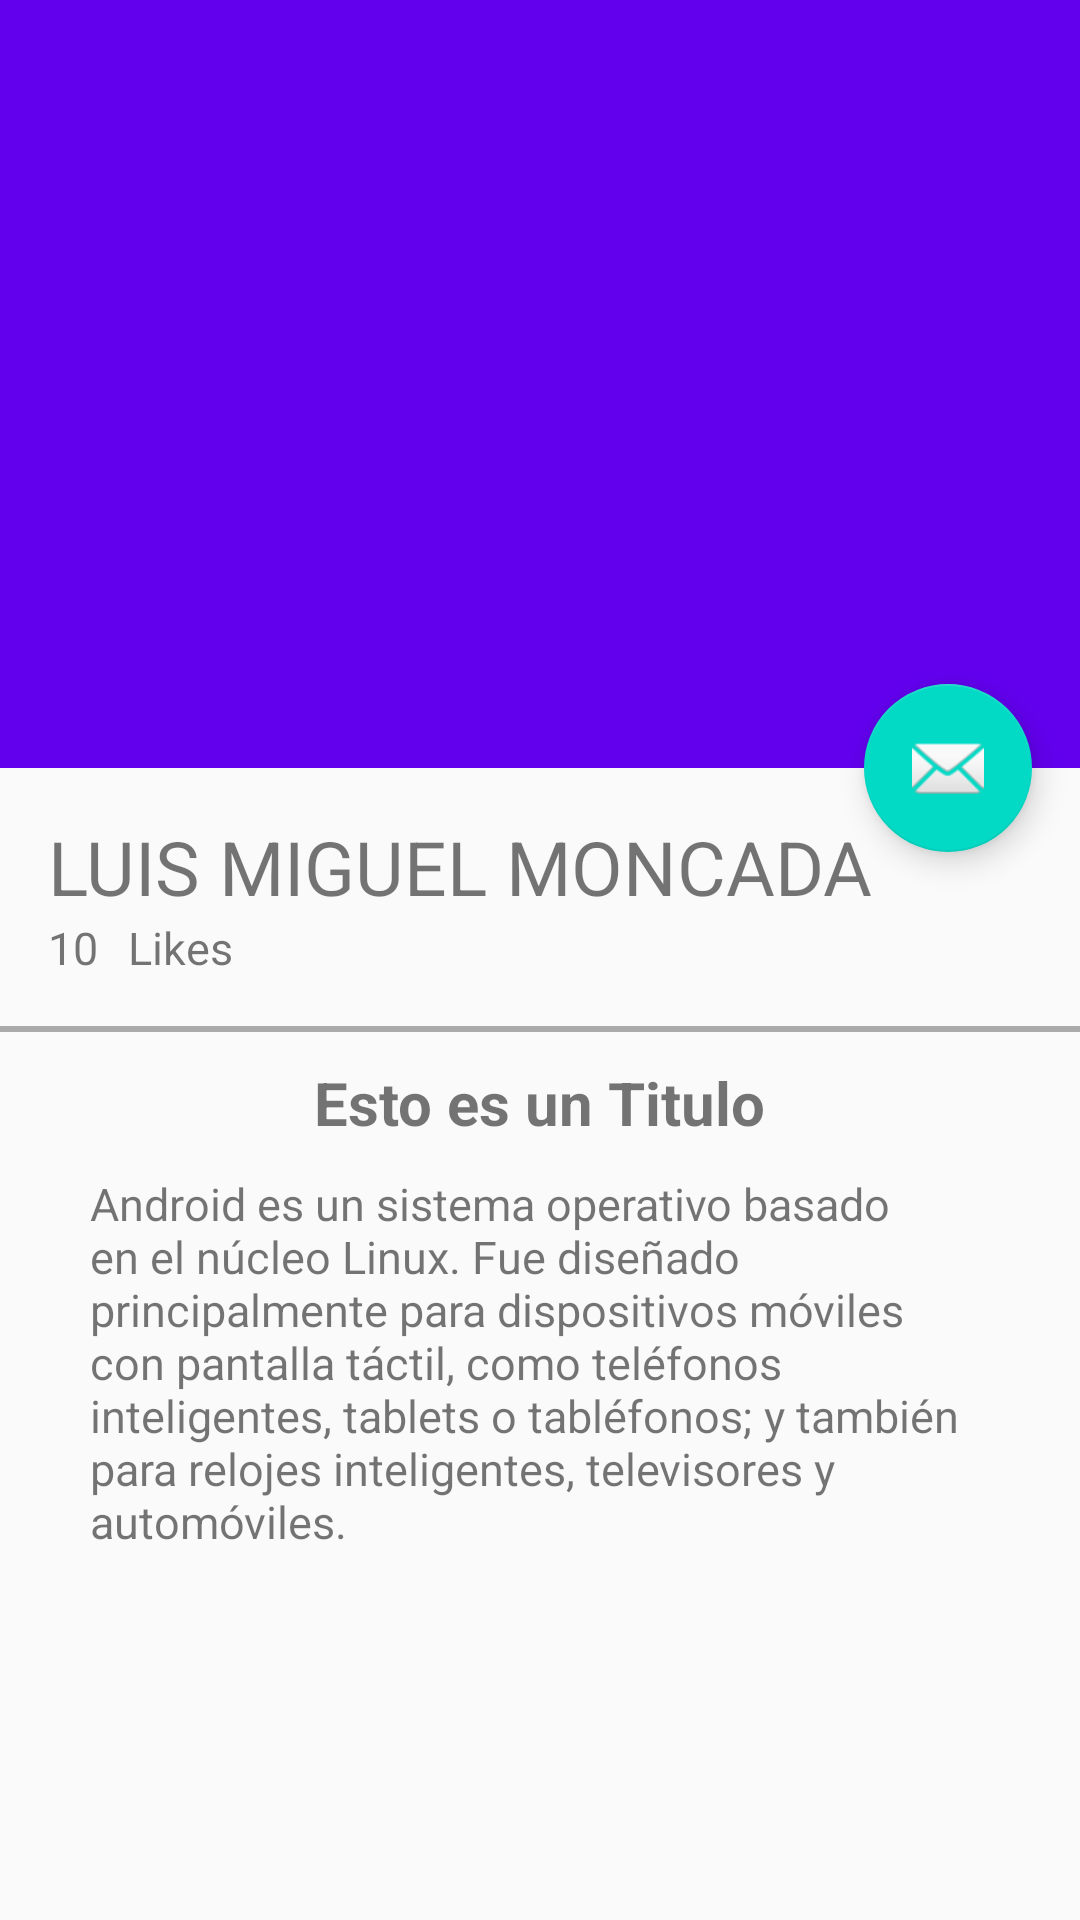

Named icons in this screenshot (1080px×1920px) and their centers, point (x, y):
email: point (948, 768)
